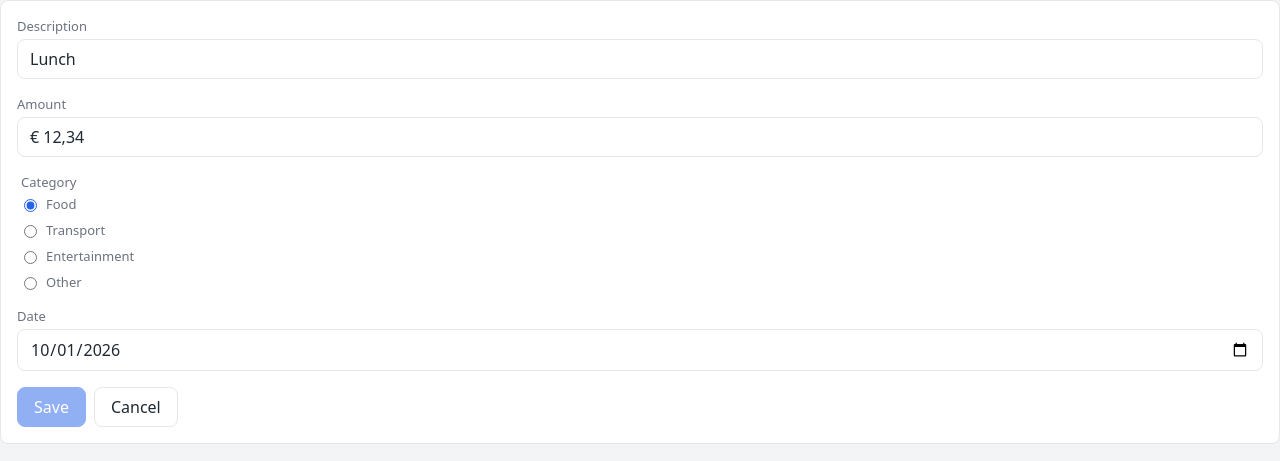
Scenario: ExpenseForm save button › disables again in edit mode when the edit is reverted
Replace the text in the field with id "expense-amount" with "20,00": (640, 137) [17,117,1263,157]
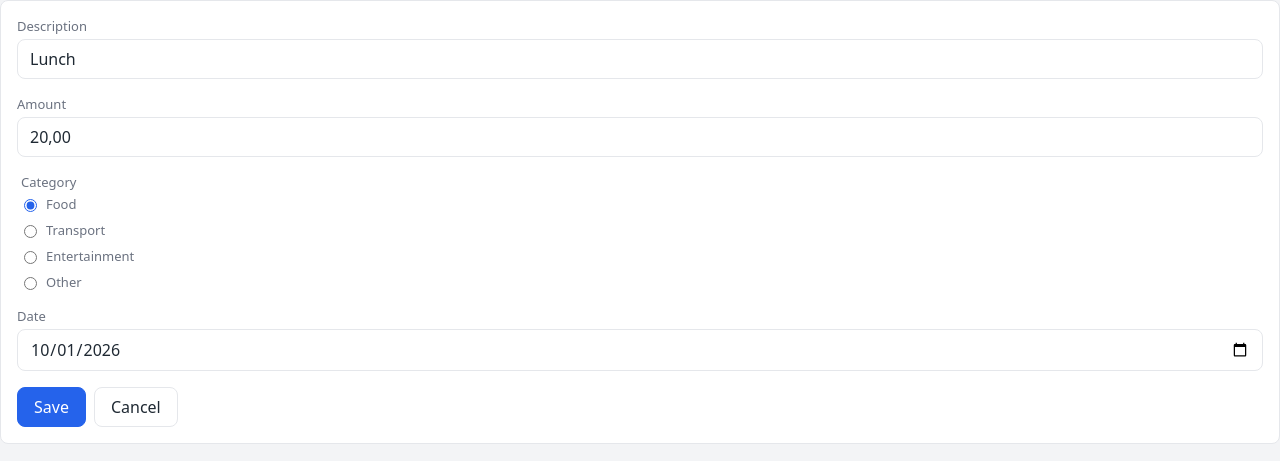
Result: the submit button is enabled at [17,387,86,427]
Replace the text in the field with id "expense-amount" with "12,34": (640, 137) [17,117,1263,157]
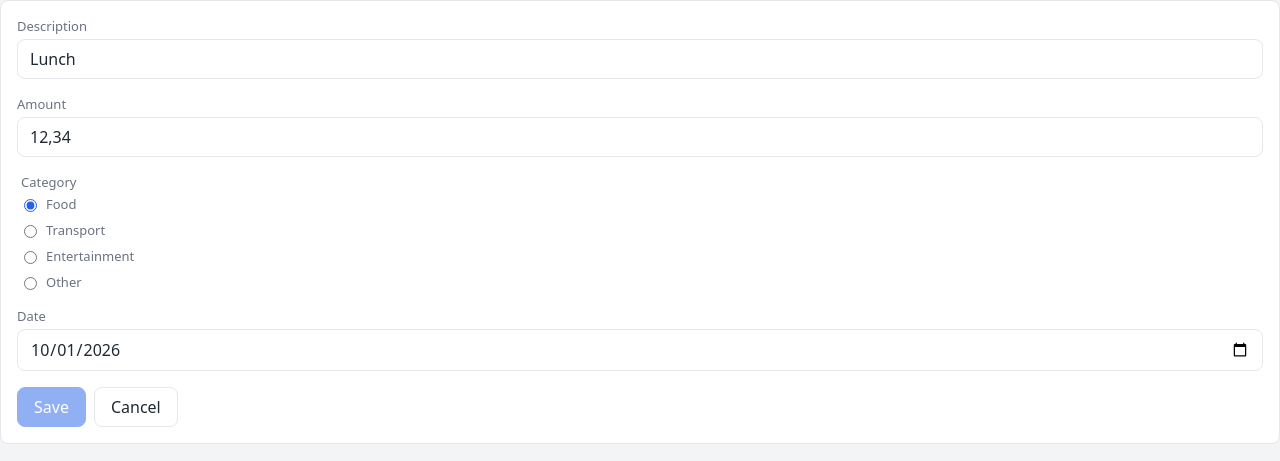
Result: the submit button is disabled at [17,387,86,427]
